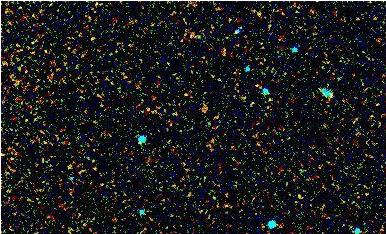star: (174, 77, 204, 107)
